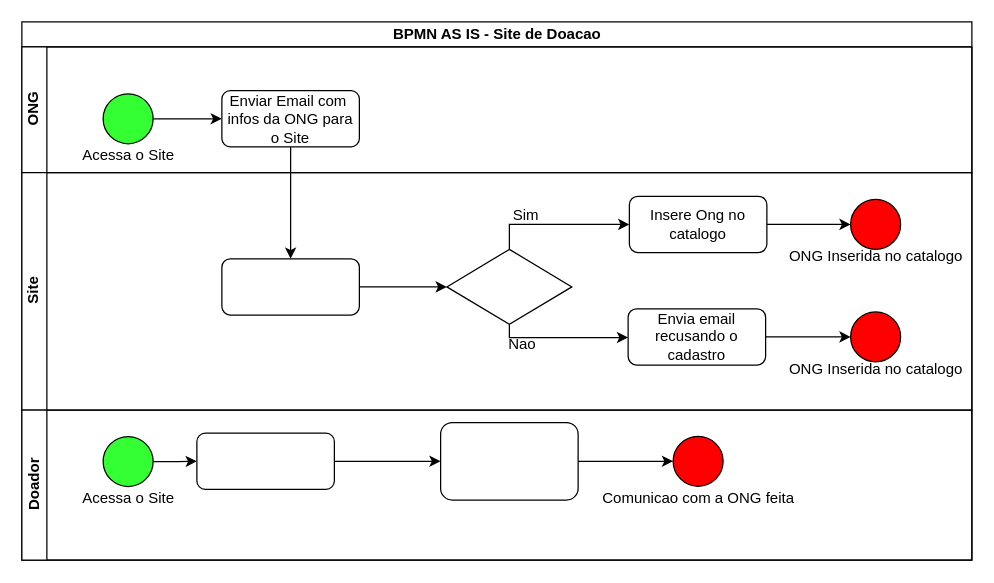
Some shapes in this 994 by 583 pixel diagram are drawn without their labels. The centre of each missing label's shape, as x and y in pixels:
"Escolher ONG do catalogo" belongs at (265,460).
"Infos Validas?" belongs at (509,286).
"Ligar ou Enviar email agendando visita ou para fazer perguntas" belongs at (508,460).
"Validar Infos da Ong" belongs at (290,286).
